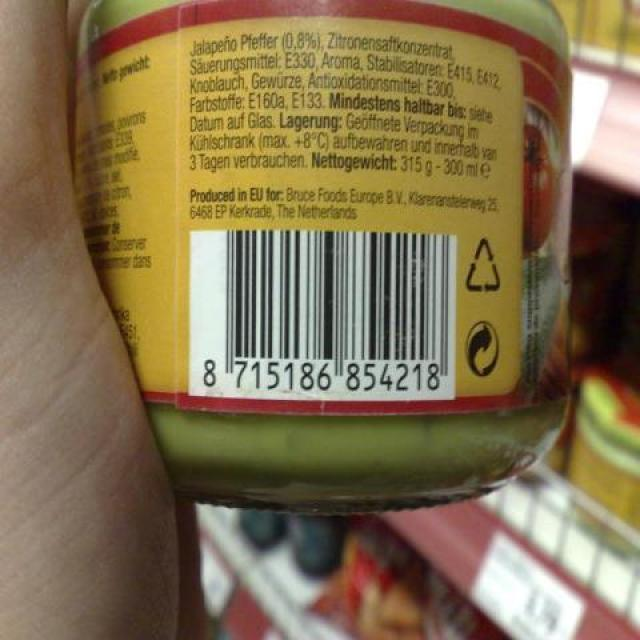Barcode: (189, 228, 456, 400)
